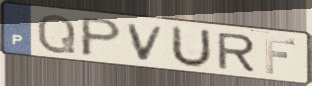F: (264, 35, 298, 76)
P: (79, 16, 125, 59)
Q: (35, 12, 78, 55)
R: (215, 31, 257, 73)
U: (168, 23, 214, 70)
V: (125, 22, 168, 63)
